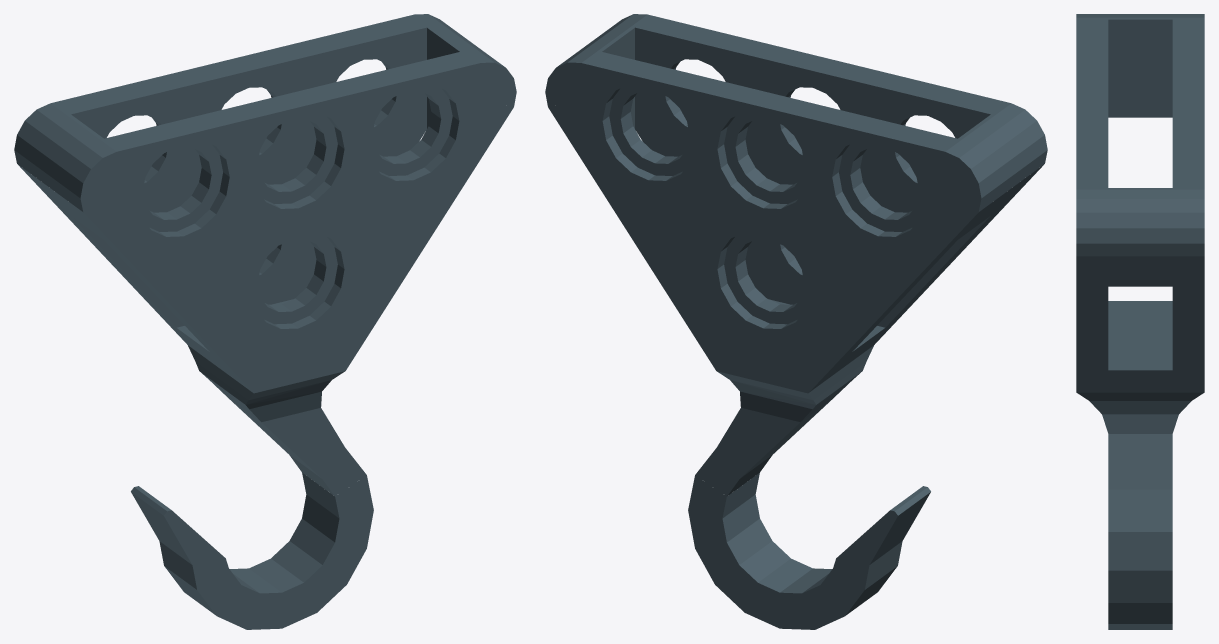
3 views of the same model, side by side, from view 1: azimuth 30°, elevation 25°; view 2: azimuth 150°, elevation 25°; view 3: azimuth 270°, elevation 25° (orthographic). The views are drawn at different scales.
Parts seen in each view (by area): view 1: world; view 2: world; view 3: world.
Part boxes in pixels (x1=…): world: x1=14, y1=14, x2=516, y2=629; world: x1=545, y1=14, x2=1047, y2=629; world: x1=1076, y1=14, x2=1204, y2=629.
Bounding box in the file's own units: 0.0304 × 0.0355 × 0.008.
